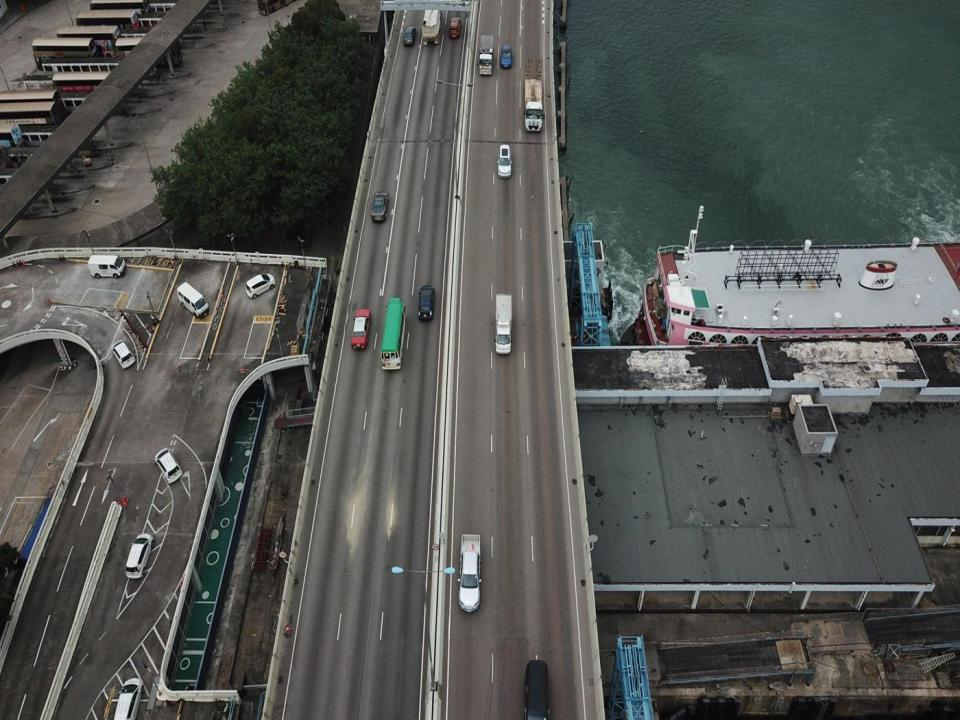bus: (48, 67, 121, 103), (55, 22, 124, 59), (6, 86, 68, 125), (378, 296, 408, 372), (31, 34, 98, 68), (74, 8, 145, 40), (0, 100, 59, 138), (113, 37, 173, 74)
car: (456, 534, 484, 613), (124, 533, 157, 579), (112, 676, 147, 719), (153, 446, 184, 485), (350, 308, 373, 351), (246, 268, 274, 298), (110, 337, 136, 369), (416, 284, 437, 322), (370, 189, 392, 223), (496, 142, 513, 181), (499, 43, 514, 72), (400, 25, 416, 48), (449, 15, 462, 40)
truck: (521, 56, 545, 132), (493, 292, 515, 356), (419, 8, 442, 46), (476, 32, 494, 76)
van: (524, 656, 550, 719), (176, 279, 211, 319), (86, 251, 127, 280)
